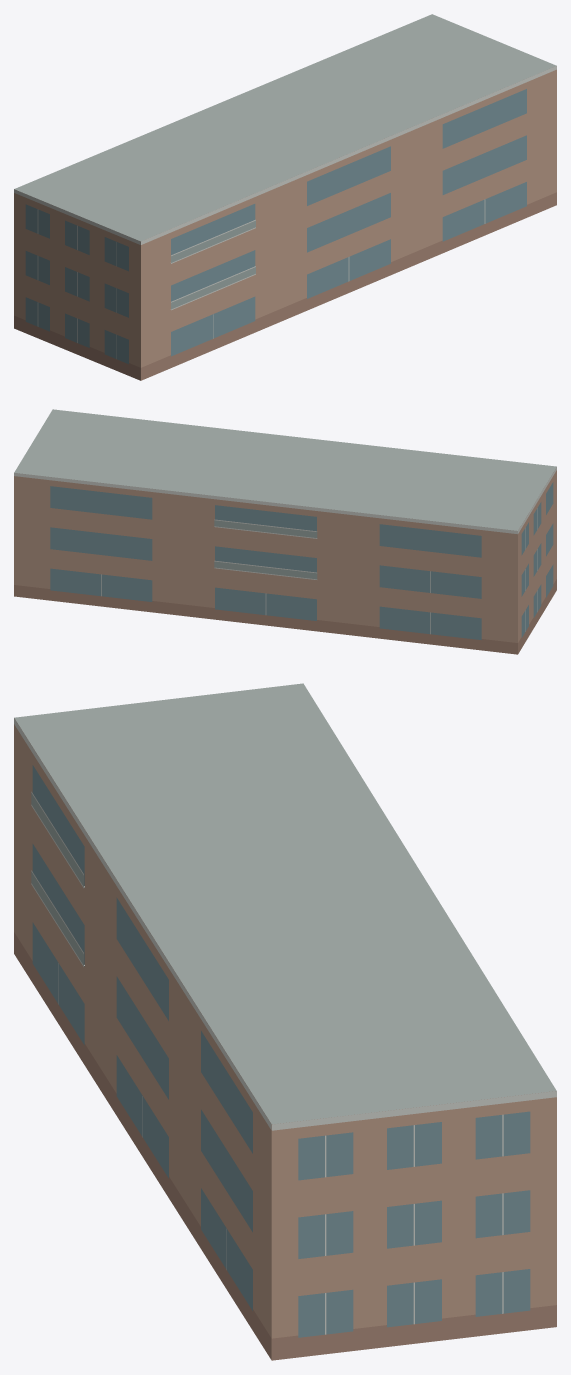
Rendered from survey-upis-32651484.glb.
The picture shows the model from 3 angles, top to bottom: view 1: azimuth 30°, elevation 25°; view 2: azimuth 150°, elevation 25°; view 3: azimuth 270°, elevation 25°; orthographic projection. The views are drawn at different scales.
Parts seen in each view (by area): view 1: survey-upis-32651484.tmp; view 2: survey-upis-32651484.tmp; view 3: survey-upis-32651484.tmp.
Part boxes in pixels (left/top/right/bottom): survey-upis-32651484.tmp: left=14, top=14, right=556, bottom=380; survey-upis-32651484.tmp: left=14, top=409, right=556, bottom=654; survey-upis-32651484.tmp: left=14, top=683, right=556, bottom=1360.
Size of the model in its own units: 36.67 by 9.15 by 19.07.
